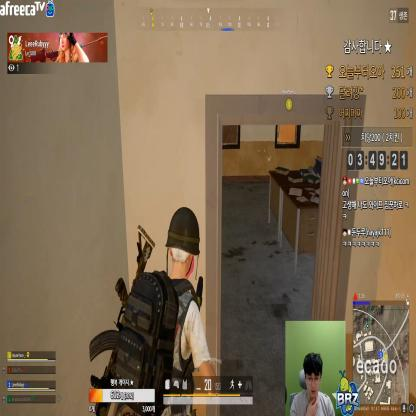streamer: (288, 350, 336, 416)
